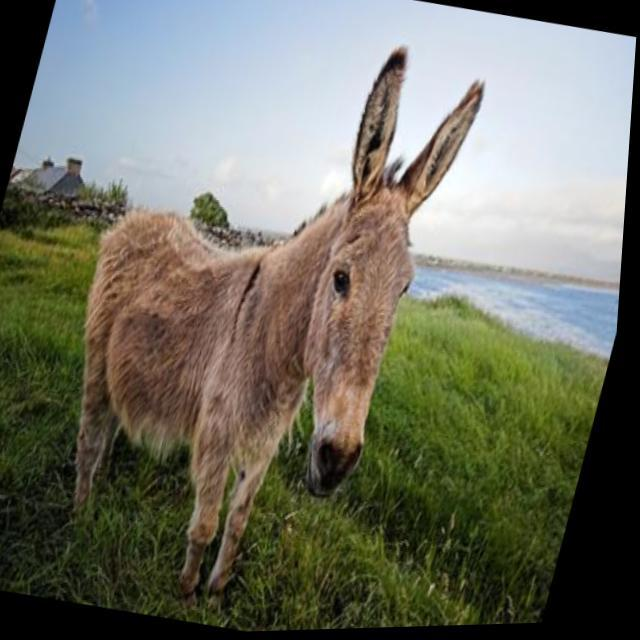Donkey: (16, 0, 498, 639)
